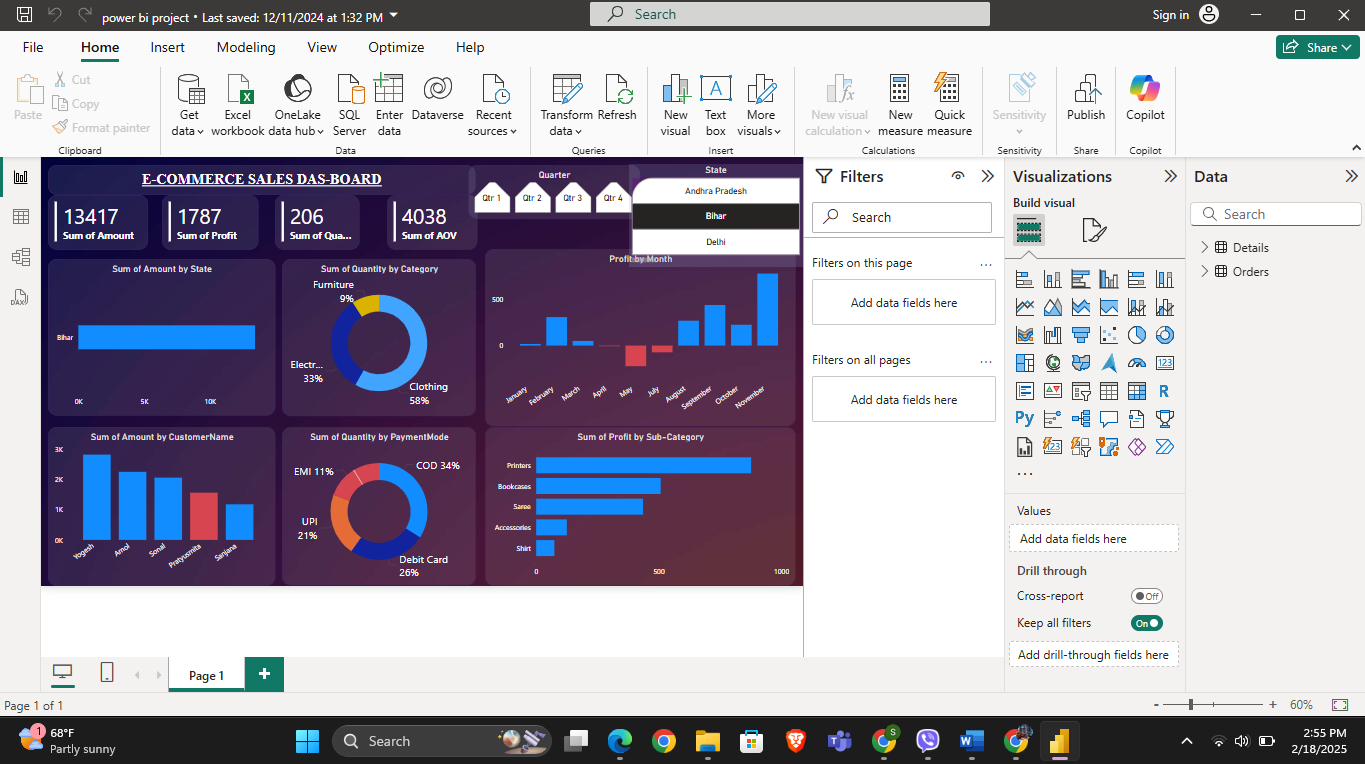

What the dashboard file says about the page in this screenshot:
{"tool":"powerbi","page":{"name":"Page 1","canvas":[1280,720],"ordinal":0},"visuals":[{"type":"textbox","box":[11.7,13.3,718.3,50],"z":0},{"type":"columnChart","title":"Profit by Month","fields":{"Category":["Orders.Order Date.Variation.Date Hierarchy.Month"],"Y":["Details.Profit"]},"box":[745,155,521.7,298.3],"z":1000},{"type":"barChart","fields":{"Category":["Details.Sub-Category"],"Y":["Details.Profit"]},"box":[745,453.3,521.7,266.7],"z":2000},{"type":"donutChart","fields":{"Category":["Details.Category"],"Y":["Details.Quantity"]},"box":[404,172,326,264],"z":3000},{"type":"donutChart","fields":{"Y":["Details.Quantity"],"Category":["Details.PaymentMode"]},"box":[404,454,326,266],"z":4000},{"type":"multiRowCard","fields":{"Values":["Details.AOV"]},"box":[581.7,63.3,151.7,91.7],"z":5000},{"type":"multiRowCard","fields":{"Values":["Details.Quantity"]},"box":[393.3,63.3,141.7,91.7],"z":6000},{"type":"multiRowCard","fields":{"Values":["Details.Profit"]},"box":[203.3,63.3,161.7,91.7],"z":7000},{"type":"multiRowCard","fields":{"Values":["Details.Amount"]},"box":[11.7,63.3,168.3,91.7],"z":8000},{"type":"barChart","fields":{"Category":["Orders.State"],"Y":["Details.Amount"]},"box":[11.7,171.7,381.7,263.3],"z":9000},{"type":"columnChart","fields":{"Category":["Orders.CustomerName"],"Y":["Details.Amount"]},"box":[11.7,453.3,381.7,266.7],"z":10000},{"type":"advancedSlicerVisual","fields":{"Values":["Orders.Order Date.Variation.Date Hierarchy.Quarter"]},"box":[717.5,13.8,288.8,91.2],"z":11000},{"type":"advancedSlicerVisual","fields":{"Values":["Orders.State"]},"box":[987.5,12.5,292.5,172.5],"z":12000}]}

Visuals, with their boxes in screenshot pixels (x1, y1, x2, y2):
textbox: box=[41, 0, 793, 27]
"Profit by Month" columnChart: box=[808, 123, 1354, 435]
barChart - Details.Sub-Category x Details.Profit: box=[808, 435, 1354, 715]
donutChart - Details.Category x Details.Quantity: box=[451, 141, 793, 417]
donutChart - Details.Quantity x Details.PaymentMode: box=[451, 436, 793, 715]
multiRowCard - Details.AOV: box=[637, 27, 796, 123]
multiRowCard - Details.Quantity: box=[440, 27, 588, 123]
multiRowCard - Details.Profit: box=[241, 27, 411, 123]
multiRowCard - Details.Amount: box=[41, 27, 217, 123]
barChart - Orders.State x Details.Amount: box=[41, 141, 440, 416]
columnChart - Orders.CustomerName x Details.Amount: box=[41, 435, 440, 715]
advancedSlicerVisual - Orders.Order Date.Variation.Date Hierarchy.Quarter: box=[780, 0, 1082, 71]
advancedSlicerVisual - Orders.State: box=[1062, 0, 1364, 155]
